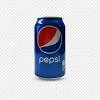Pepsi: (31, 16, 68, 79)
